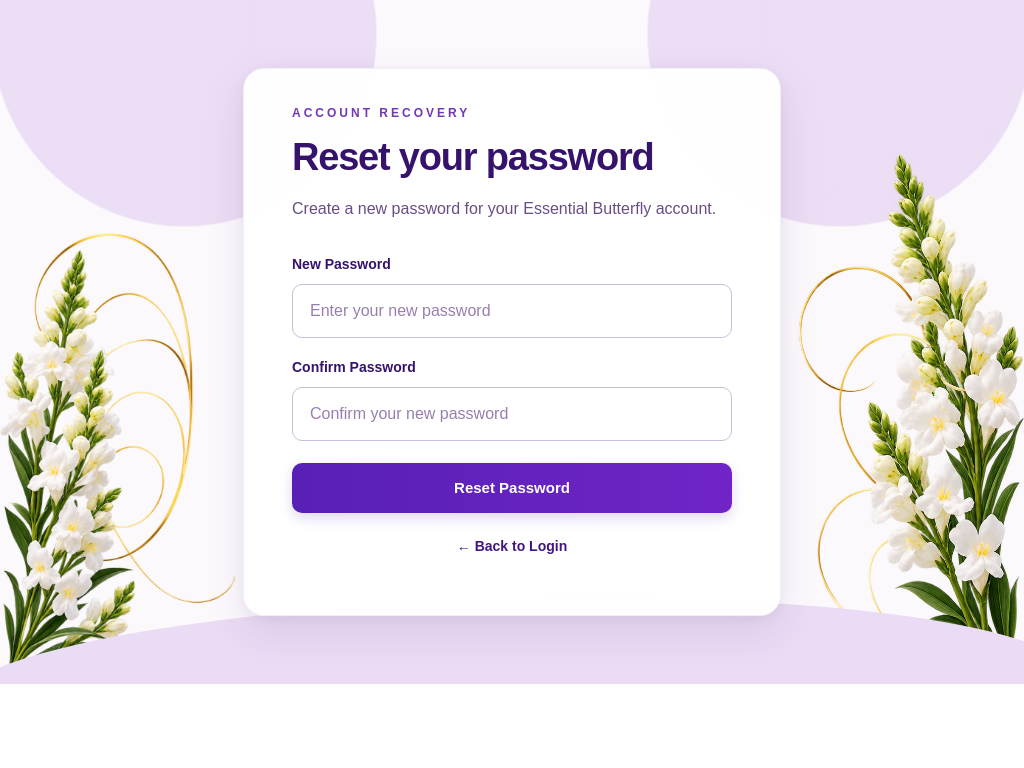
Test: ResetPassword › rejects mismatched passwords
This screenshot has width=1024, height=768.
Type "Password123" into the password field labelled "New Password". click: (512, 311)
box: [292,284,732,338]
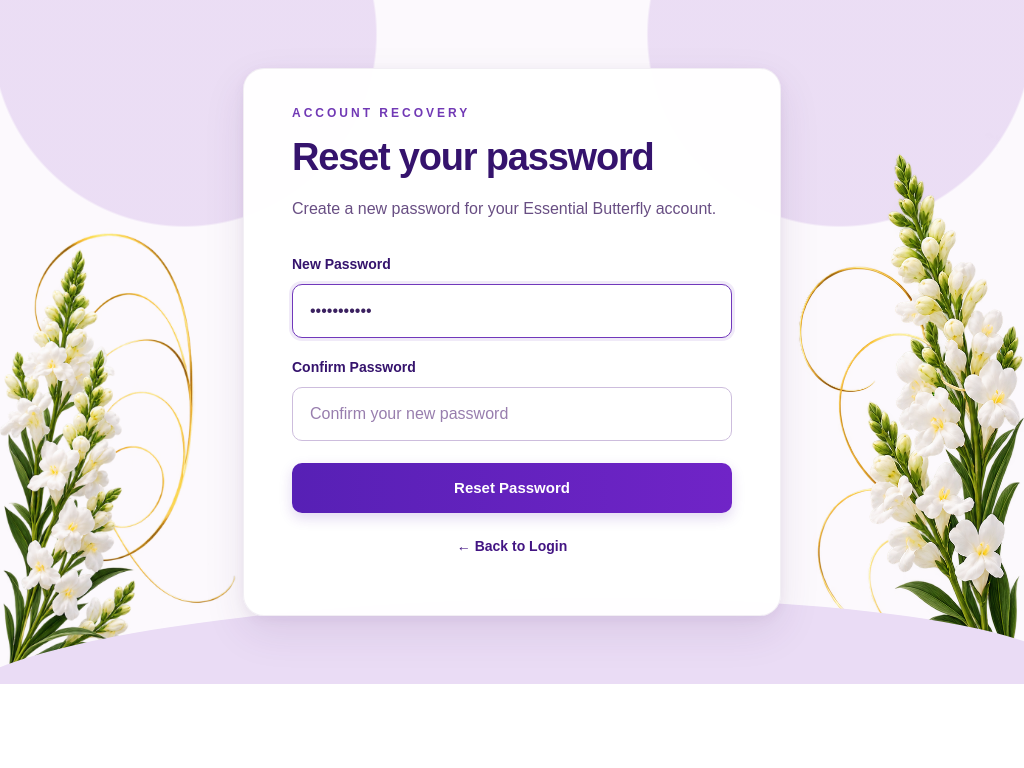
Type "Different123" into the password field labelled "Confirm Password". click: (512, 414)
box: [292,387,732,441]
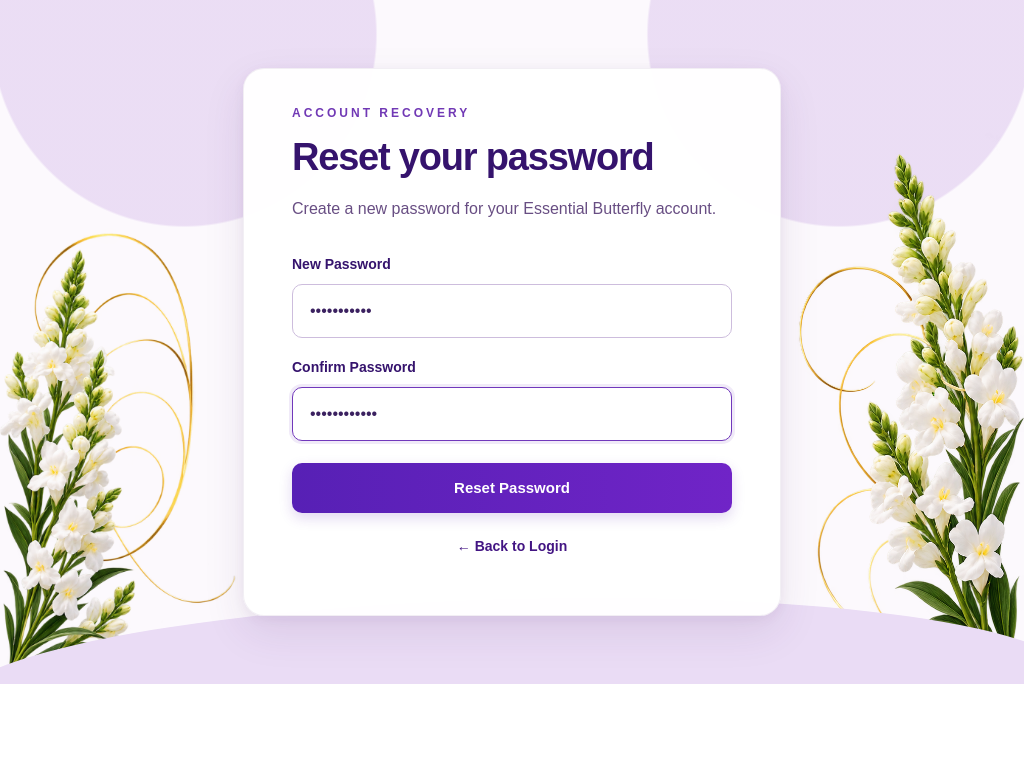
Click the button "Reset Password". click: (512, 488)
box: [292,463,732,513]
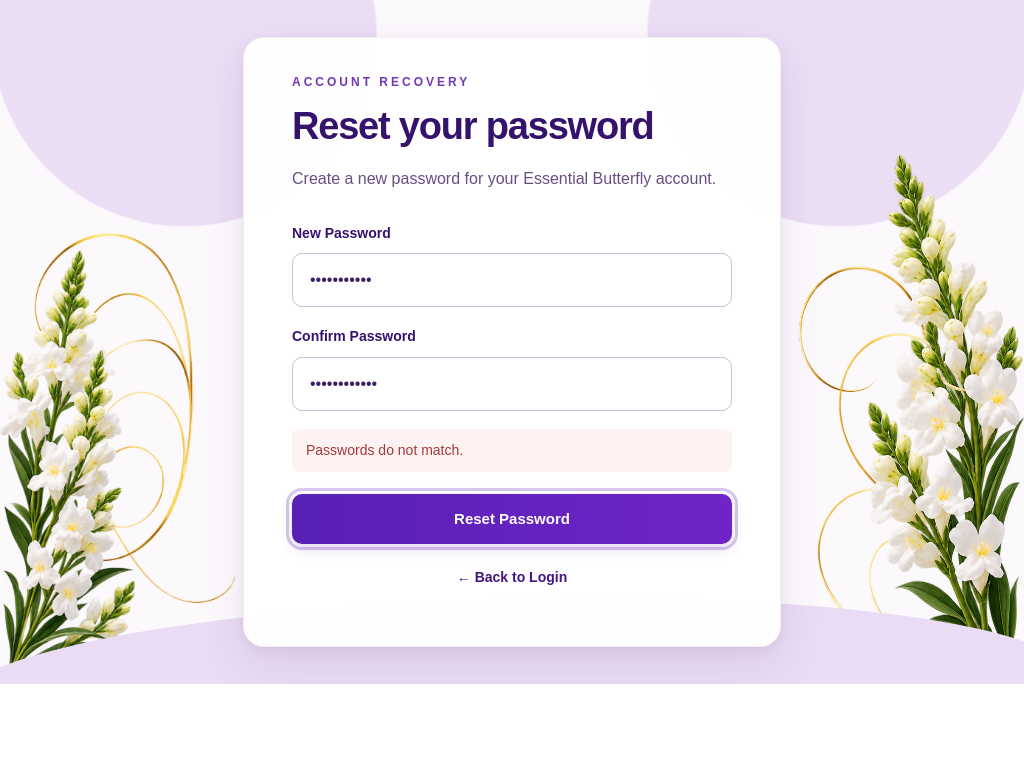
Now the message shows "Passwords do not match", box [306,442,463,458]
